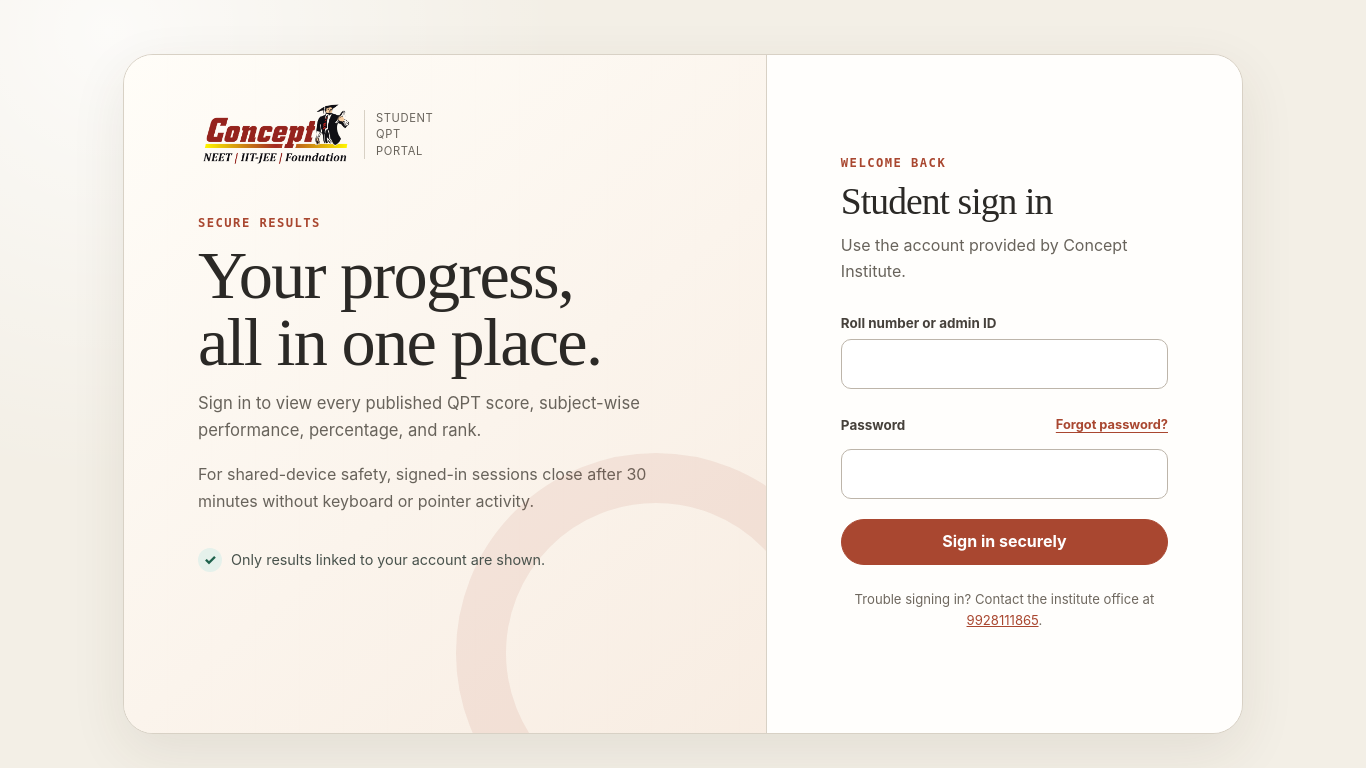
Scenario: student portal › announces a sign-in failure without exposing backend details
Type "0012" into the field labelled "Roll number or admin ID" at (1004, 364), box top-left (841, 338), bottom-right (1168, 388)
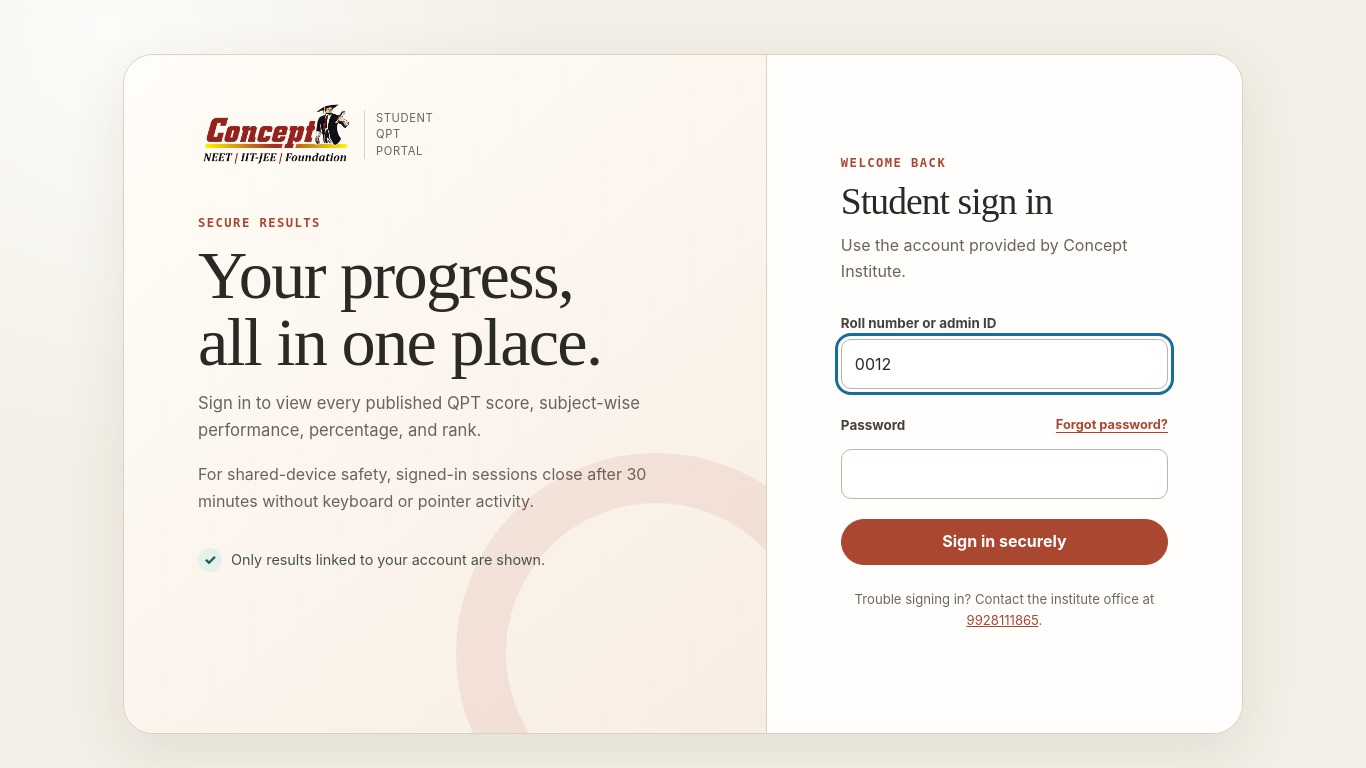
Type "wrong-password" into the password field labelled "Password" at (1004, 474), box top-left (841, 448), bottom-right (1168, 498)
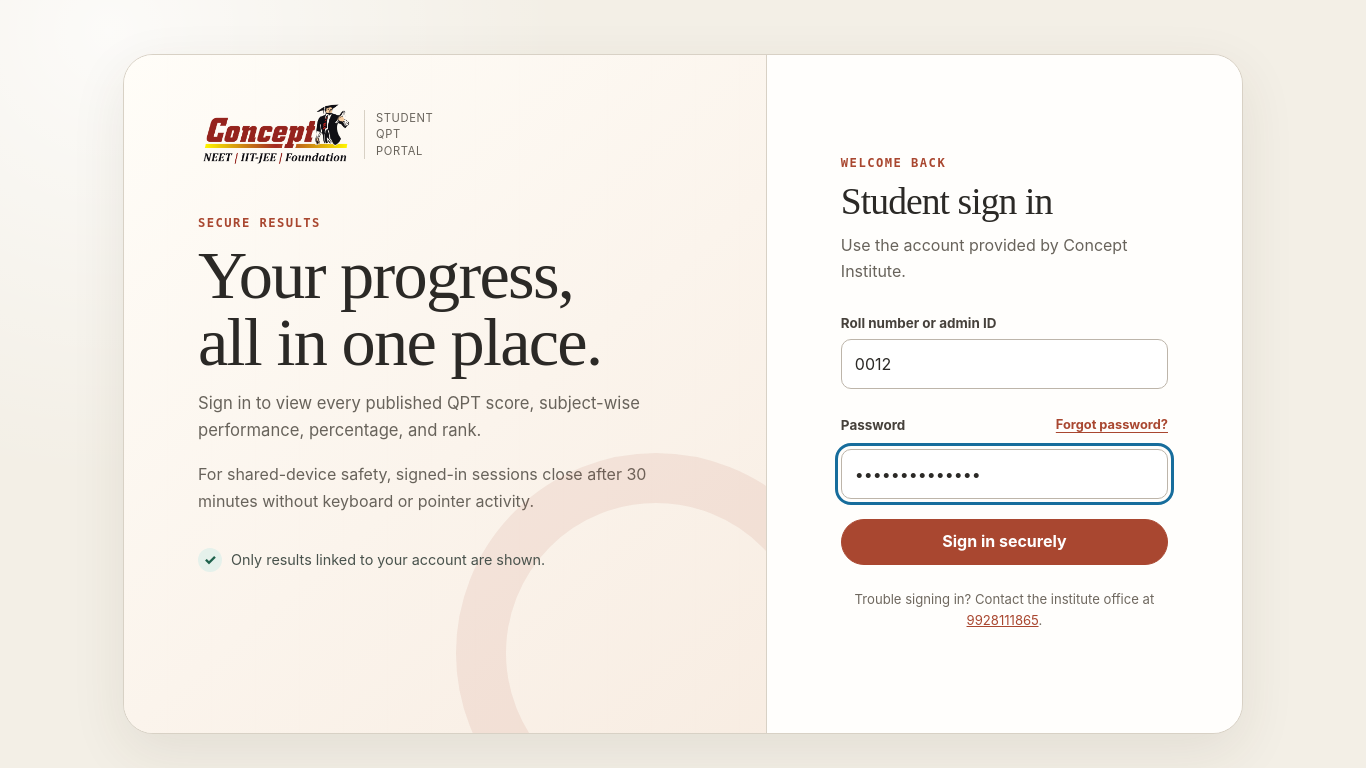
Click the button "Sign in securely" at (1004, 542), box top-left (841, 518), bottom-right (1168, 564)
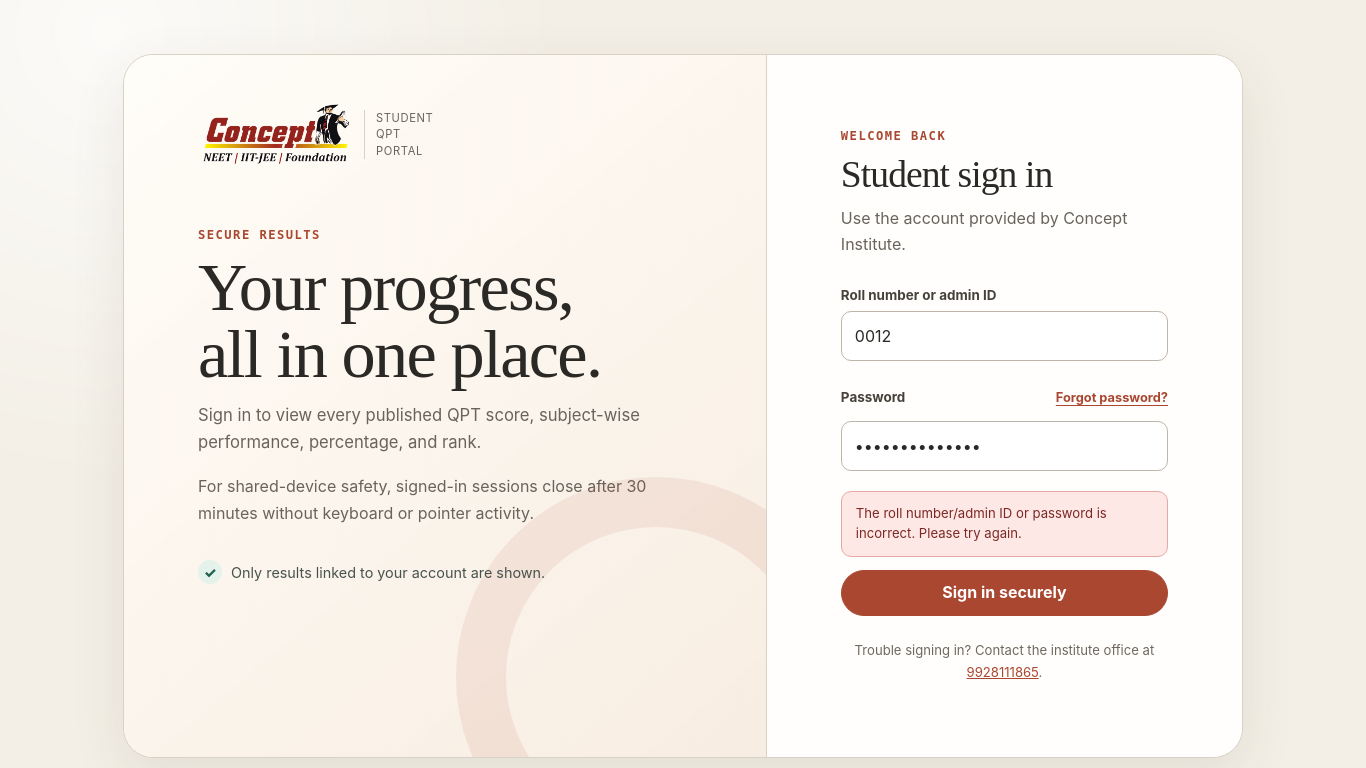
Expected: the message does not show "internal trace", top-left (841, 491), bottom-right (1168, 557)
Result: the message reads "The roll number/admin ID or password is incorrect. Please try again." at top-left (856, 505), bottom-right (1107, 541)
